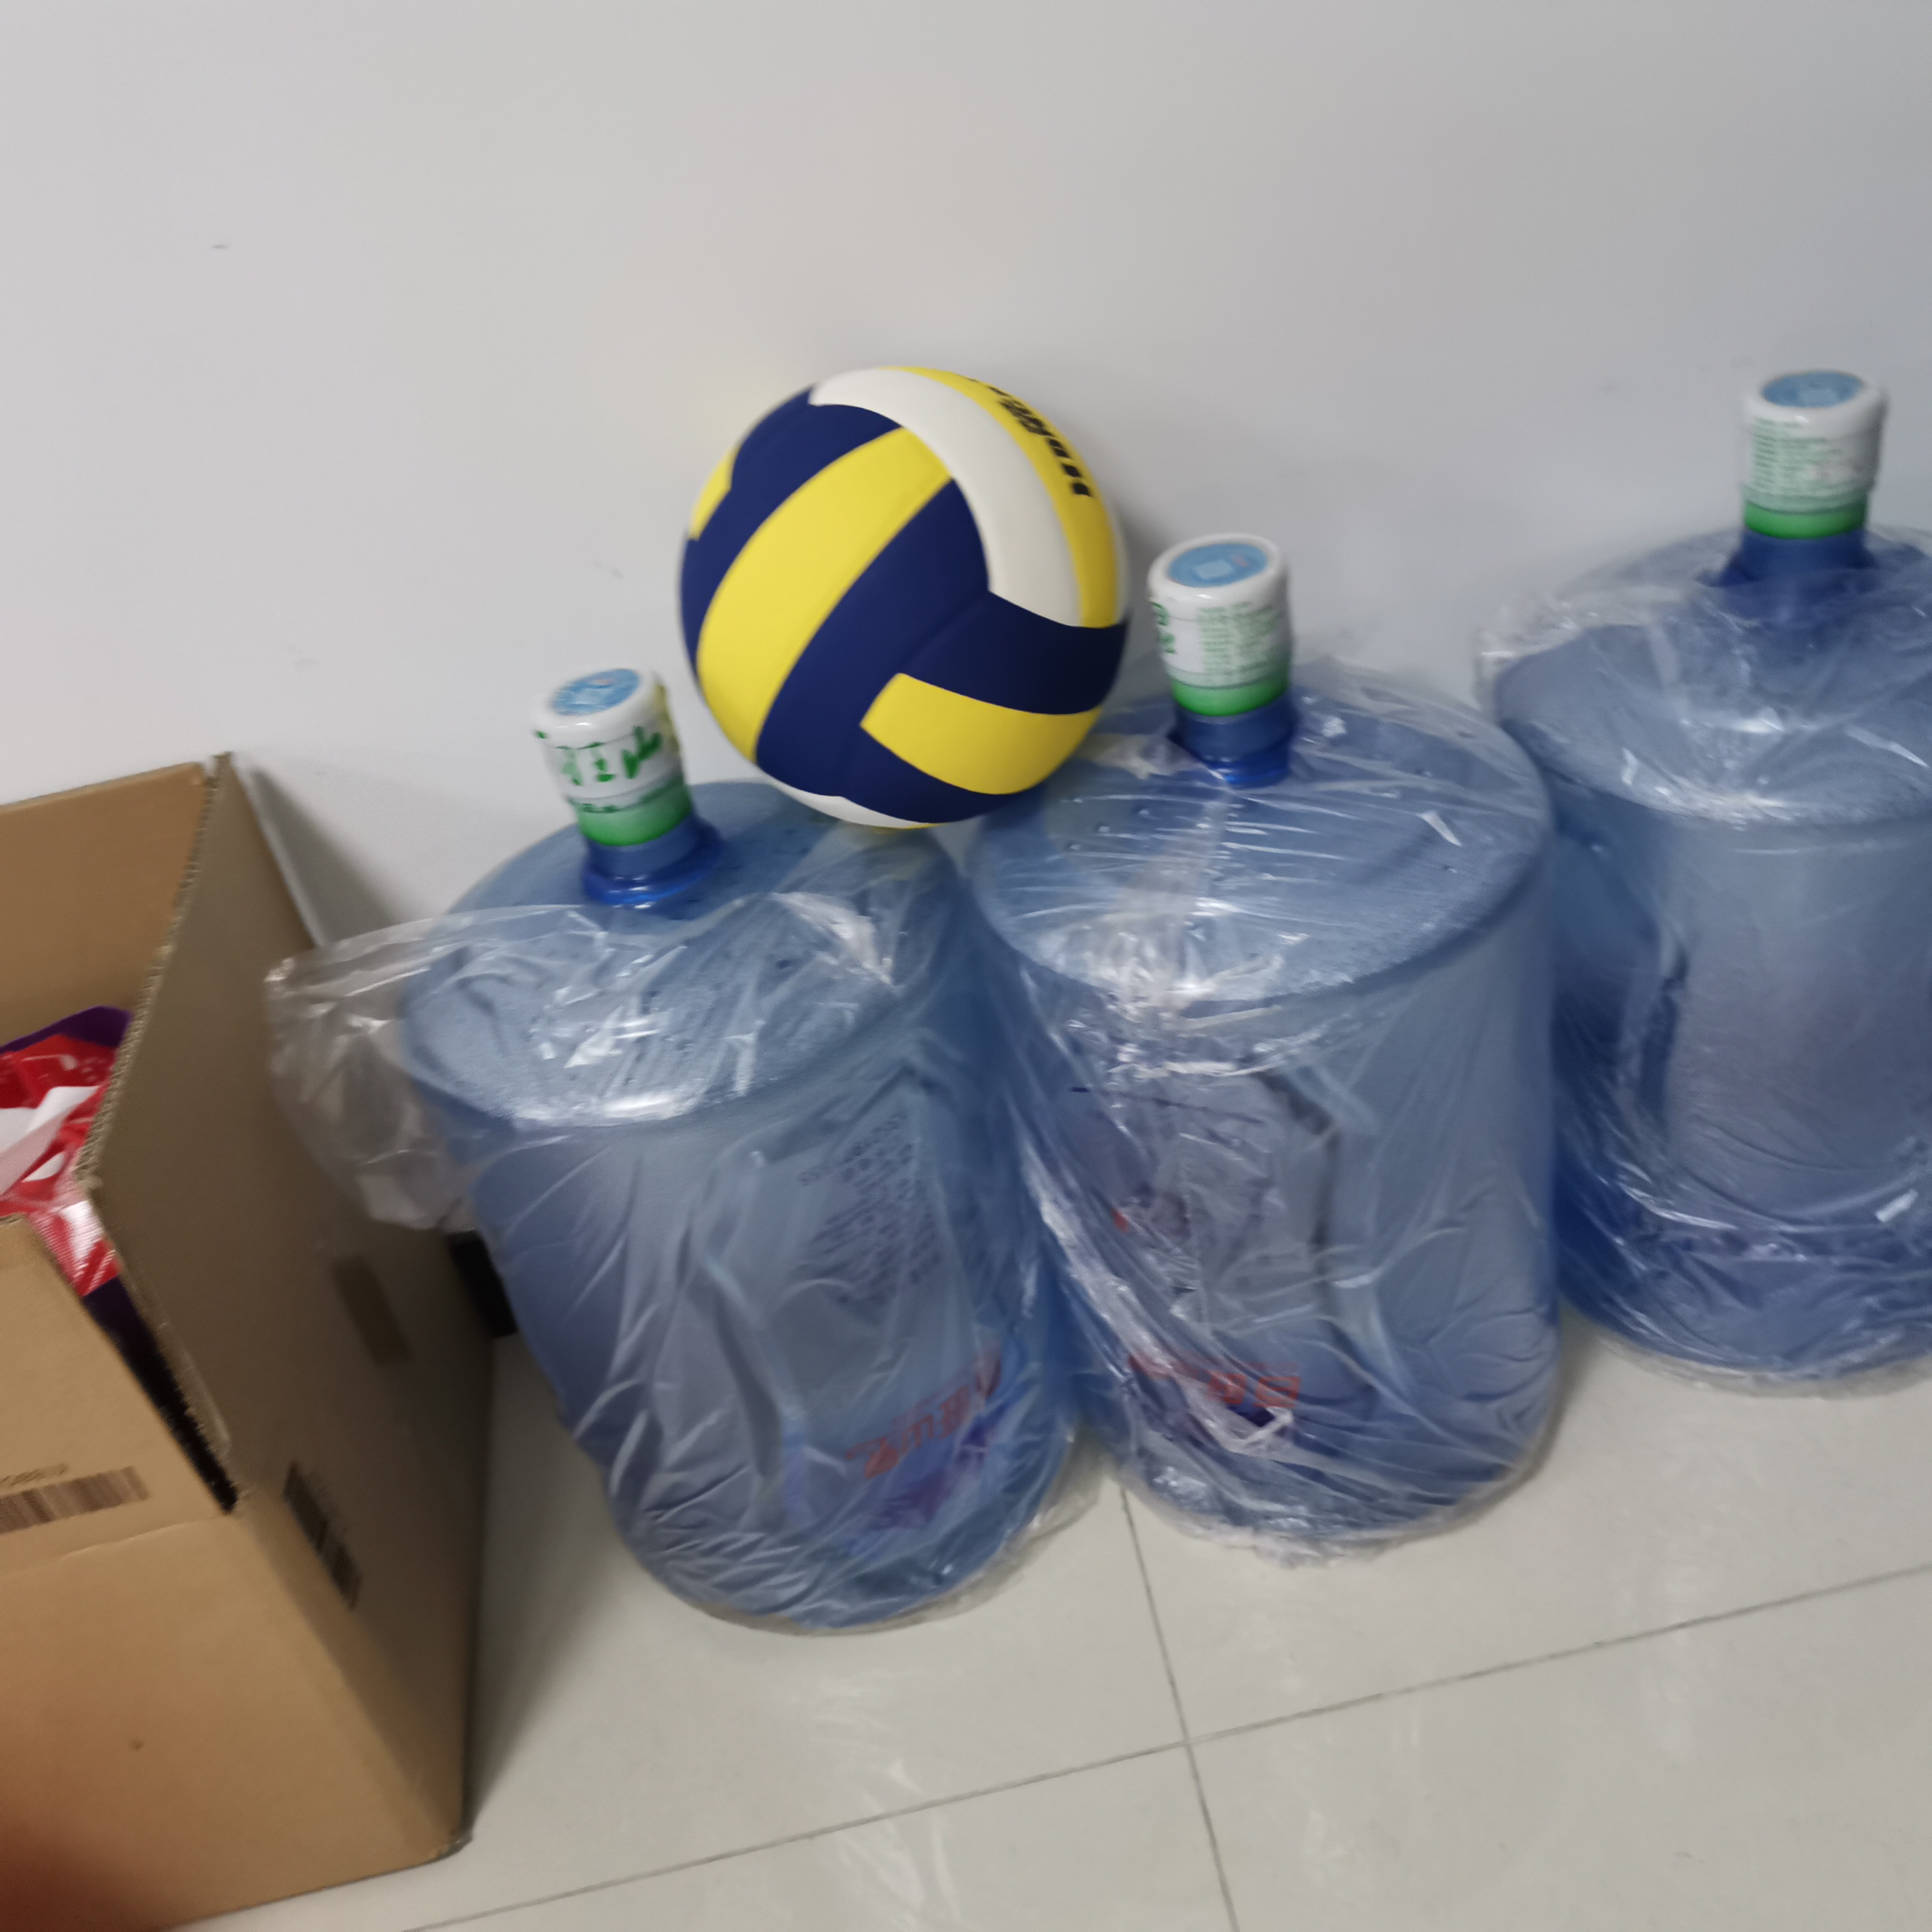volleyball: (676, 364, 1138, 821)
